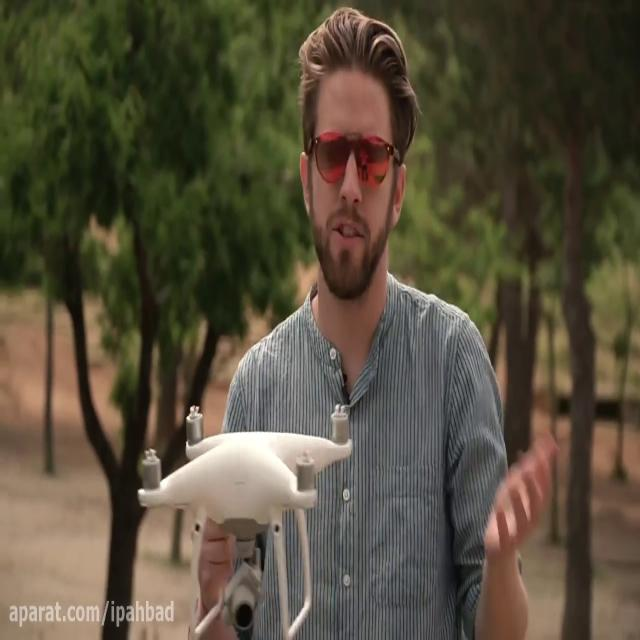drone: (135, 399, 355, 639)
